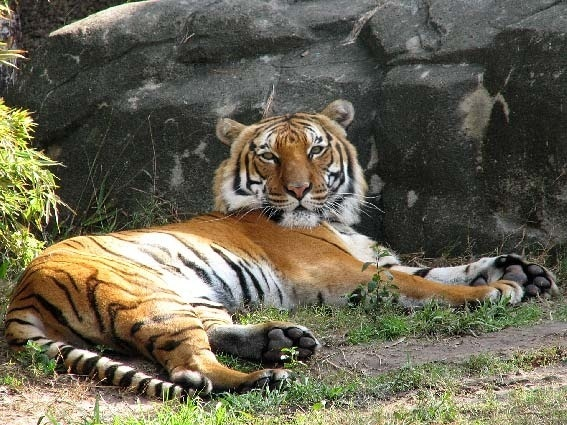tigre: (5, 98, 558, 401)
